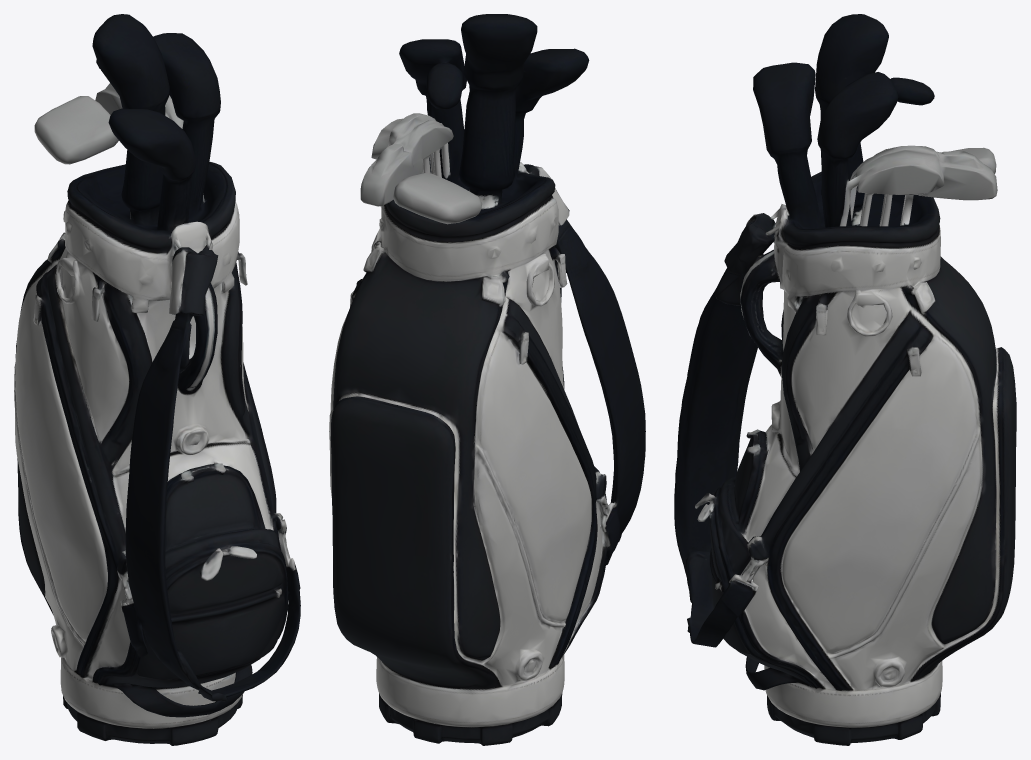
The model's file is golf_bag_scan.glb.
The picture shows the model from 3 angles, left to right: view 1: azimuth 30°, elevation 25°; view 2: azimuth 150°, elevation 25°; view 3: azimuth 270°, elevation 25°; orthographic projection. The views are drawn at different scales.
Parts seen in each view (by area): view 1: tripo_node_5af5bd88-8119-4d86-a6c1-f1434db3ed54; view 2: tripo_node_5af5bd88-8119-4d86-a6c1-f1434db3ed54; view 3: tripo_node_5af5bd88-8119-4d86-a6c1-f1434db3ed54.
Boxes of the visible parts, x1,y1,x2,y2 form: tripo_node_5af5bd88-8119-4d86-a6c1-f1434db3ed54: (14,14,300,745); tripo_node_5af5bd88-8119-4d86-a6c1-f1434db3ed54: (329,14,645,745); tripo_node_5af5bd88-8119-4d86-a6c1-f1434db3ed54: (674,14,1016,745).
Bounding box in the file's own units: 0.282 × 1 × 0.4582.
1 material, 1 textured.
